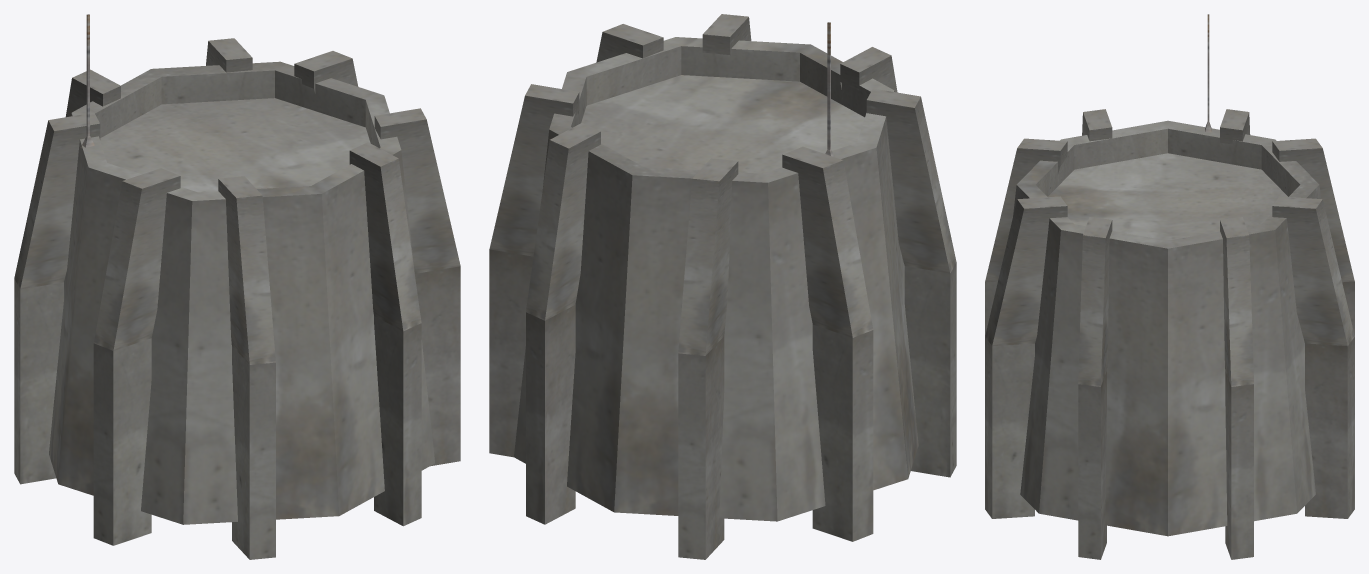
Rendered from defensive_torreta.dae.
The picture shows the model from 3 angles, left to right: view 1: azimuth 30°, elevation 25°; view 2: azimuth 150°, elevation 25°; view 3: azimuth 270°, elevation 25°; orthographic projection. The views are drawn at different scales.
Parts seen in each view (by area): view 1: Cylinder; view 2: Cylinder; view 3: Cylinder.
Boxes of the visible parts, x1,y1,x2,y2 form: Cylinder: (14,14,460,559); Cylinder: (489,14,956,559); Cylinder: (985,14,1354,559).
Size of the model in its own units: 13.21 by 13.21 by 16.29.
